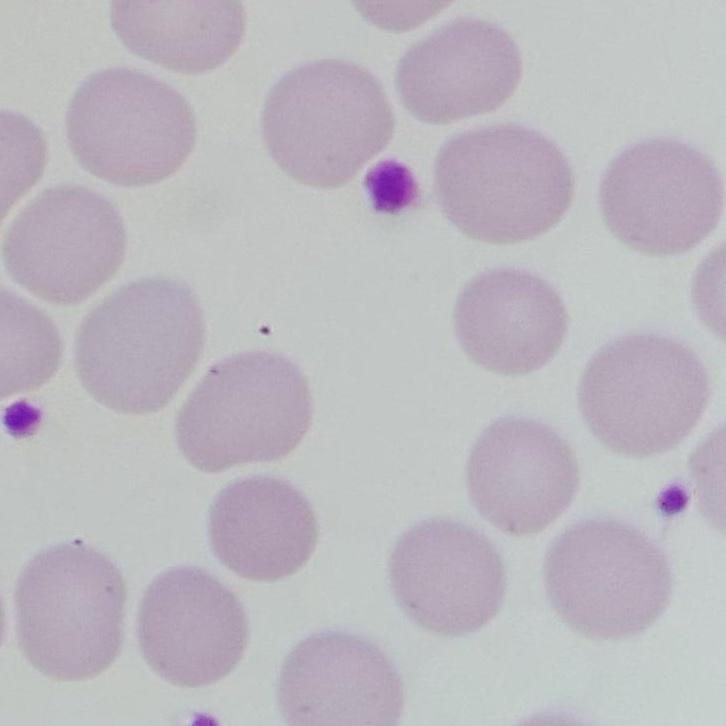Uninfected: (77, 280, 205, 414), (173, 349, 311, 473), (580, 330, 708, 458), (266, 59, 394, 186), (436, 127, 573, 241), (0, 186, 129, 305), (69, 66, 196, 186), (547, 515, 671, 637), (19, 540, 127, 680), (391, 517, 509, 634), (603, 139, 722, 255), (467, 415, 581, 535), (394, 19, 519, 126), (136, 567, 250, 684), (279, 632, 405, 726), (454, 270, 566, 375), (213, 477, 318, 583), (109, 0, 247, 74)
